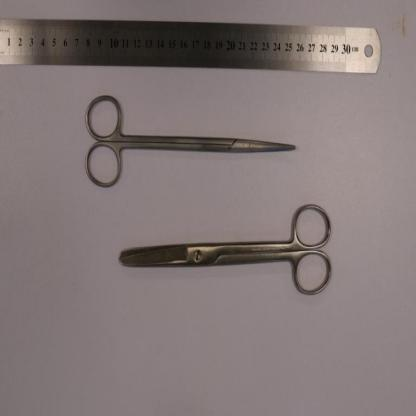7 Metzenbaum Scissors: (83, 90, 296, 191)
Dressing Scissors: (119, 199, 332, 298)
